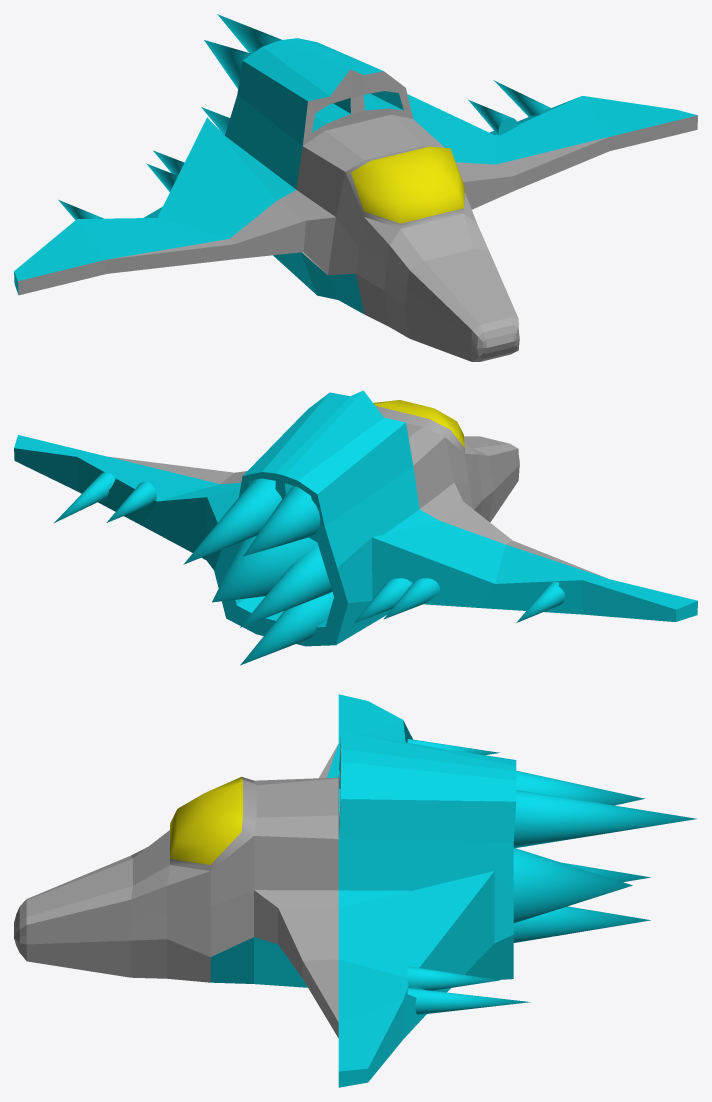
The model's file is frozen_02.fbx.
3 renders of one model, top to bottom at view 1: azimuth 30°, elevation 25°; view 2: azimuth 150°, elevation 25°; view 3: azimuth 270°, elevation 25°, orthographic. The views are drawn at different scales.
Visible parts, largest first — view 1: polySurface6555; view 2: polySurface6555; view 3: polySurface6555.
Part boxes in pixels (<box>): polySurface6555: <box>14,14,697,361</box>; polySurface6555: <box>14,390,697,665</box>; polySurface6555: <box>14,694,696,1087</box>.
Size of the model in its own units: 496 by 140 by 380.
